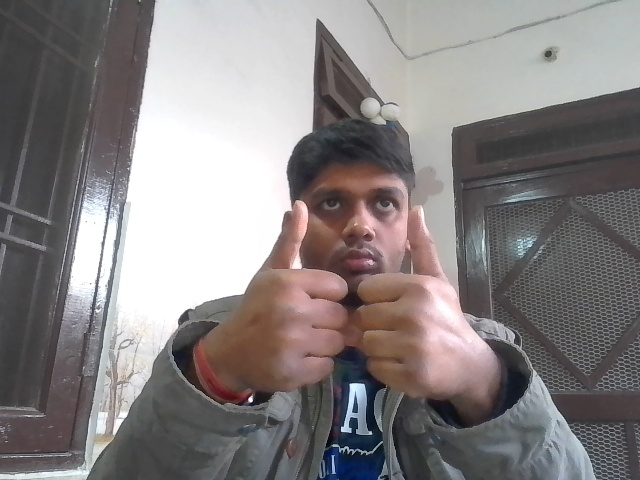Excellent: (225, 194, 464, 403)
